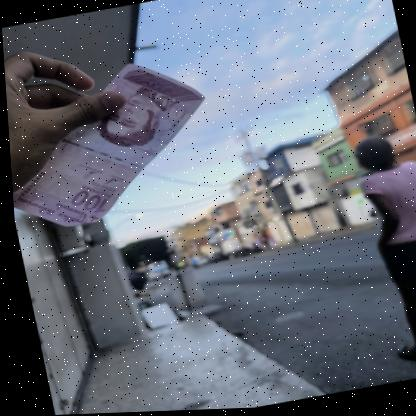one_hundred-front-vef: (3, 51, 224, 237)
